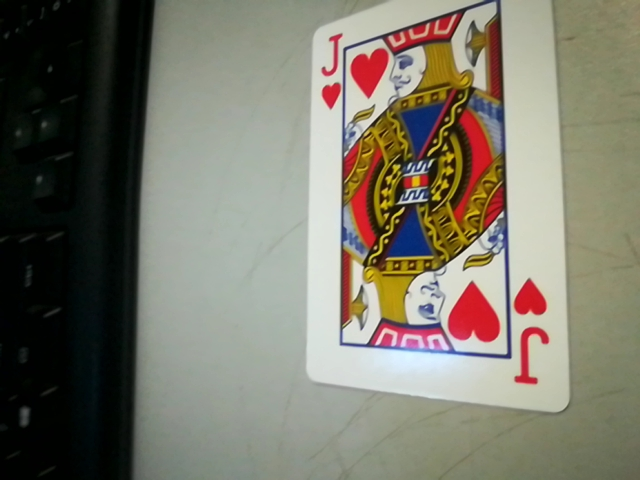hx j: (506, 271, 559, 395)
